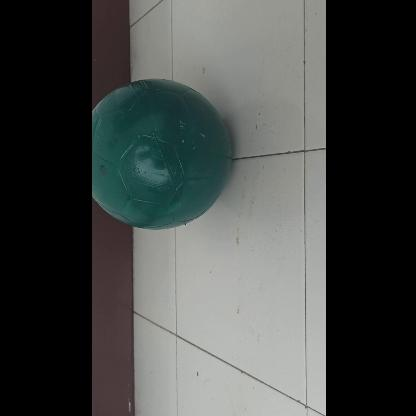green_ball: (90, 76, 232, 231)
